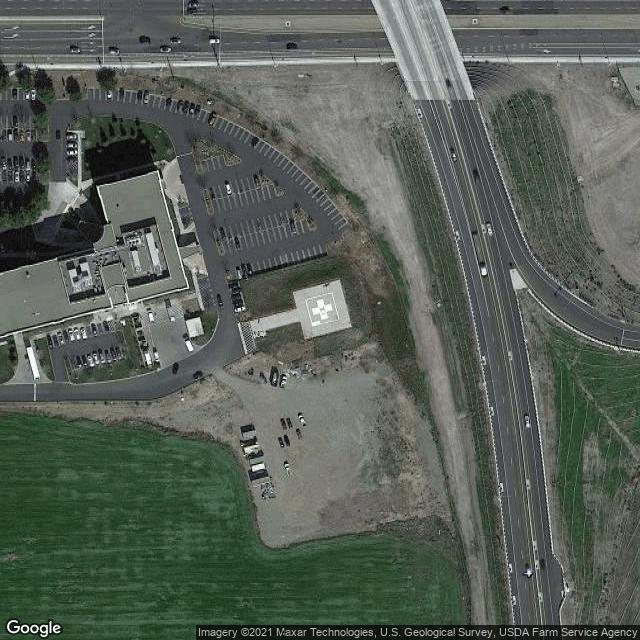Helipad: (301, 289, 343, 328)
